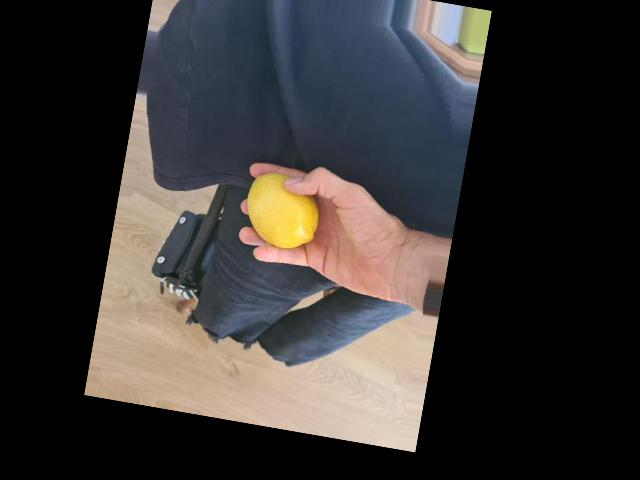lemon: (239, 171, 327, 250)
